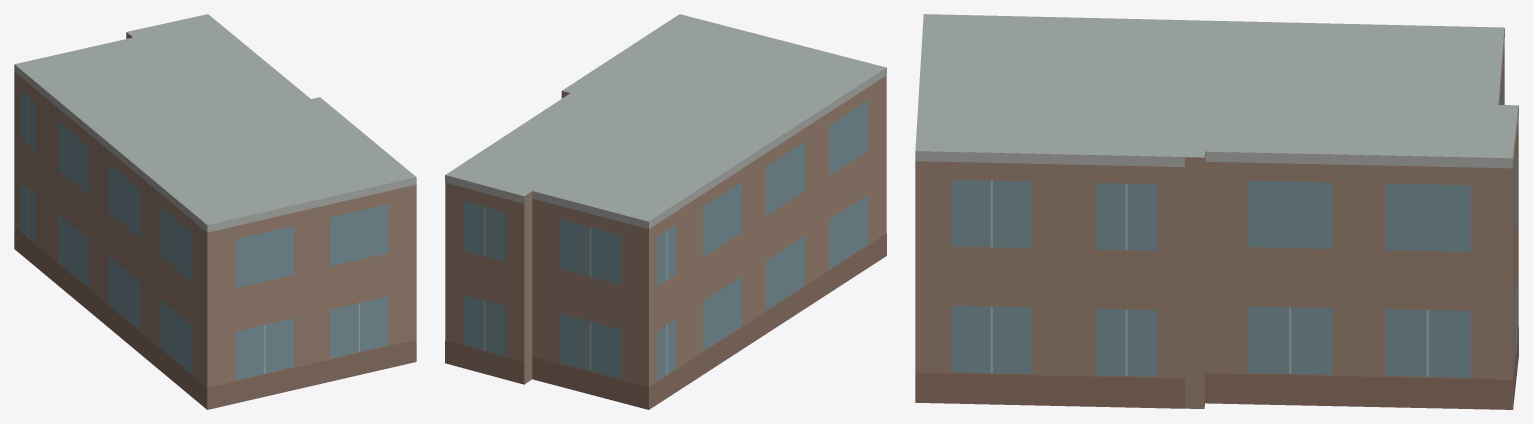
File: survey-upis-32706315.glb
3 renders of one model, left to right at view 1: azimuth 30°, elevation 25°; view 2: azimuth 150°, elevation 25°; view 3: azimuth 270°, elevation 25°, orthographic. The views are drawn at different scales.
Parts seen in each view (by area): view 1: survey-upis-32706315.tmp; view 2: survey-upis-32706315.tmp; view 3: survey-upis-32706315.tmp.
Part boxes in pixels (x1,y1,x2,y2): survey-upis-32706315.tmp: [14, 14, 416, 409]; survey-upis-32706315.tmp: [445, 14, 886, 409]; survey-upis-32706315.tmp: [915, 14, 1518, 409].
Size of the model in its own units: 7.51 by 6.1 by 13.27.
